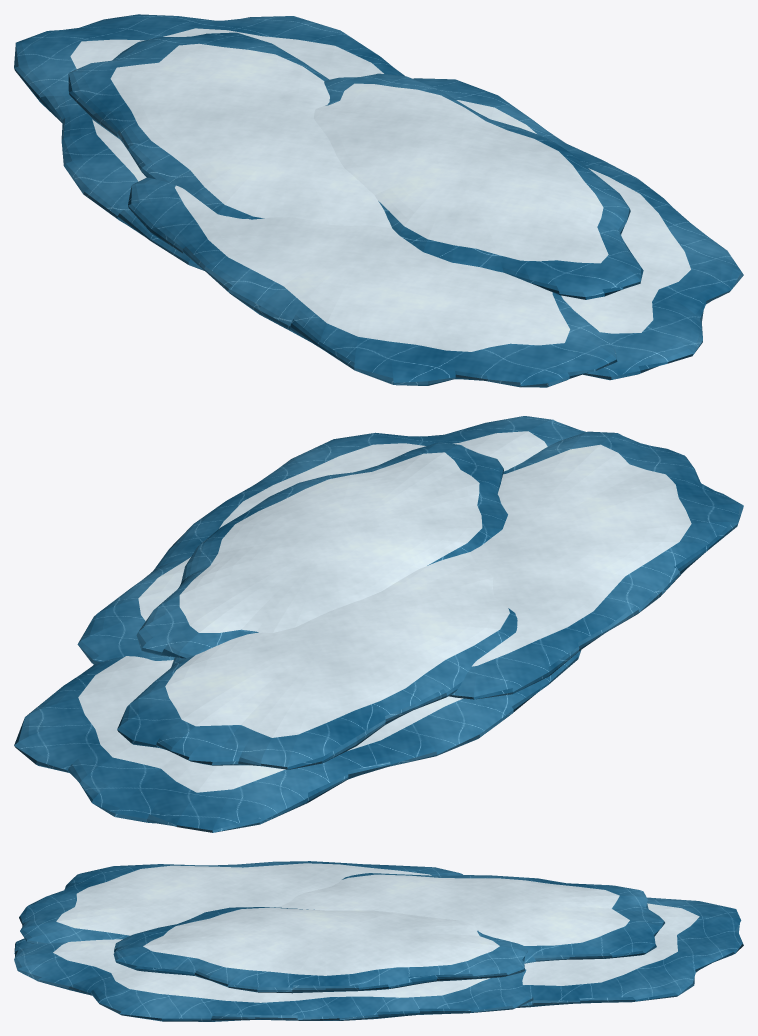
File: SecondRoom_IceRubble.fbx
3 views of the same model, one above another, from view 1: azimuth 30°, elevation 25°; view 2: azimuth 150°, elevation 25°; view 3: azimuth 270°, elevation 25° (orthographic). The views are drawn at different scales.
Visible parts, largest first — view 1: WO_SecondRoom_IceRubble_LOD0; view 2: WO_SecondRoom_IceRubble_LOD0; view 3: WO_SecondRoom_IceRubble_LOD0.
Part boxes in pixels (x1,y1,x2,y2): WO_SecondRoom_IceRubble_LOD0: (14,14,743,387); WO_SecondRoom_IceRubble_LOD0: (14,416,743,832); WO_SecondRoom_IceRubble_LOD0: (14,861,743,1021).
Size of what is drawn, in the model's own units: 2.95 by 0.4466 by 6.
